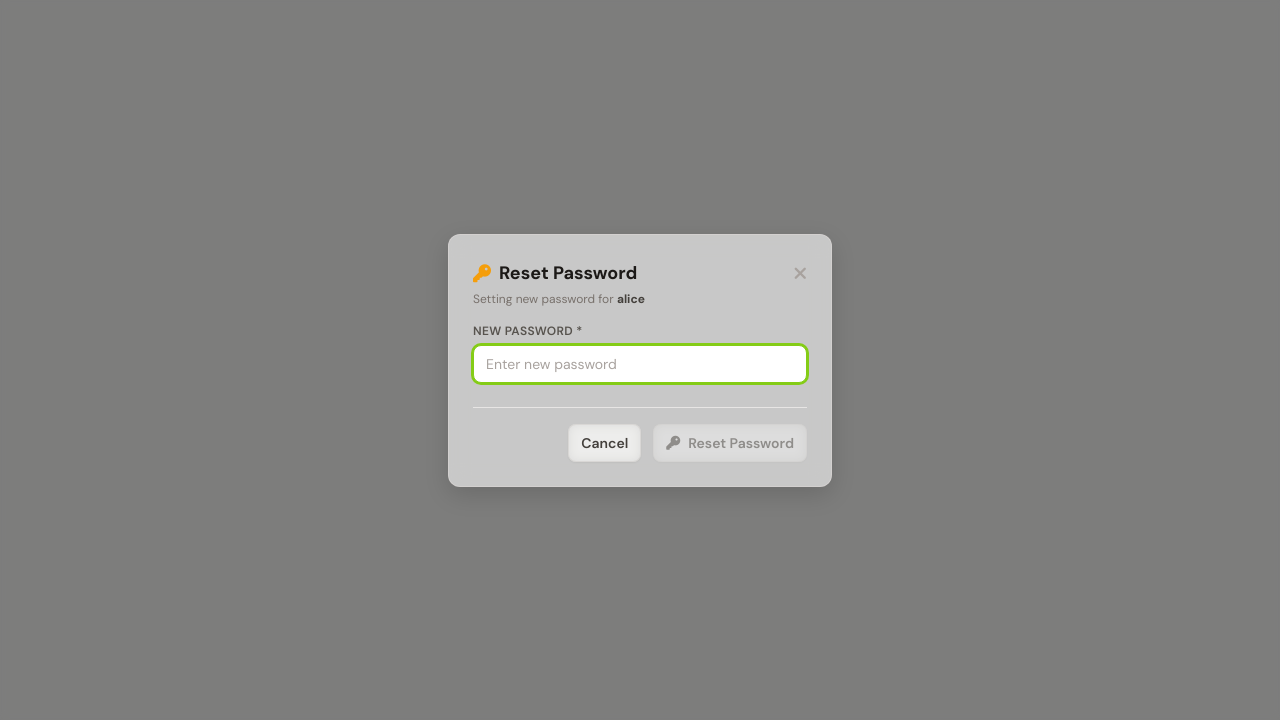
Scenario: UserPasswordModal › surfaces an Error from a failed reset
Type "short" into the password field with placeholder "Enter new password" at (640,364), box [473,344,807,382]
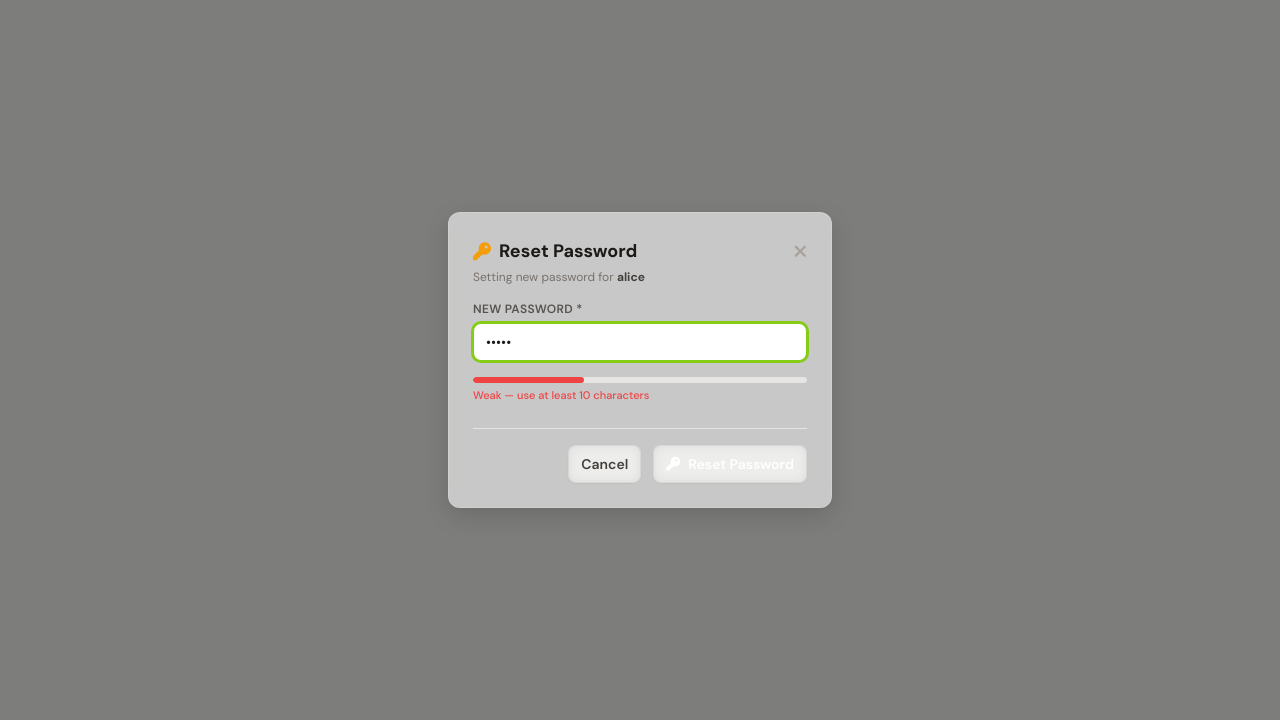
Click the button "Reset Password" at (730,464), box [653,445,807,483]
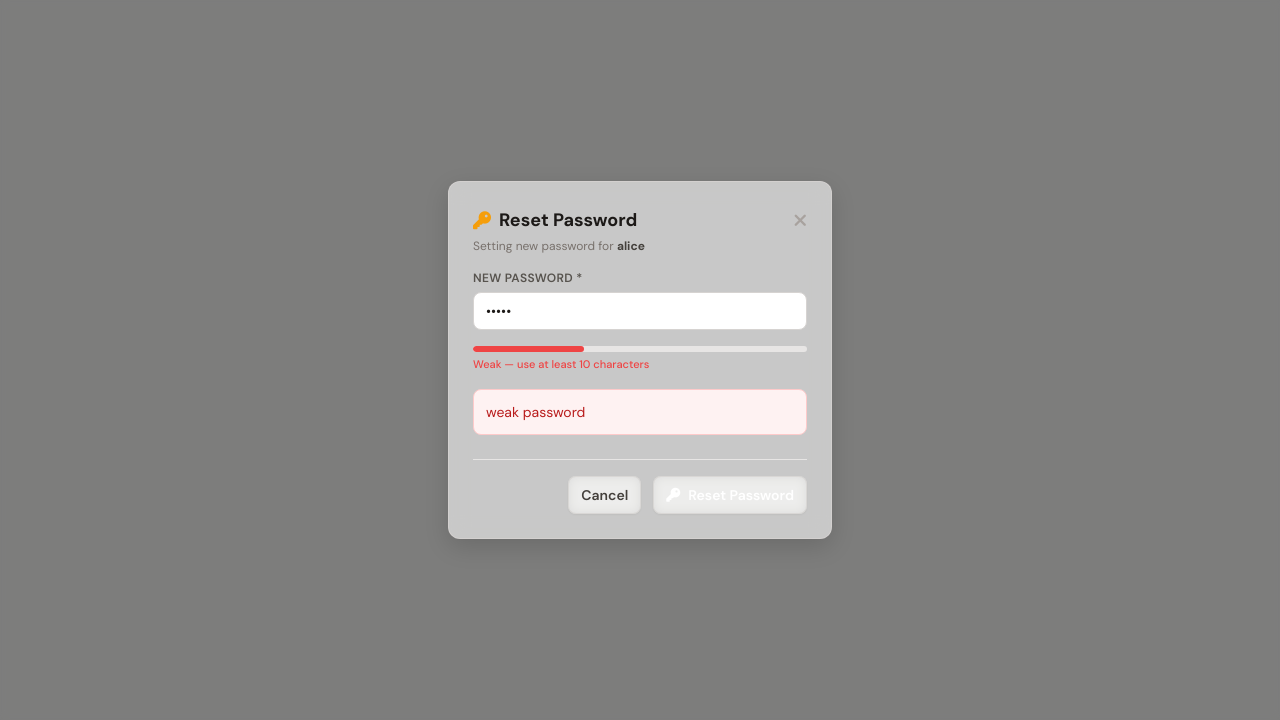
Expected: the text "weak password" is shown, [473,389,807,435]
